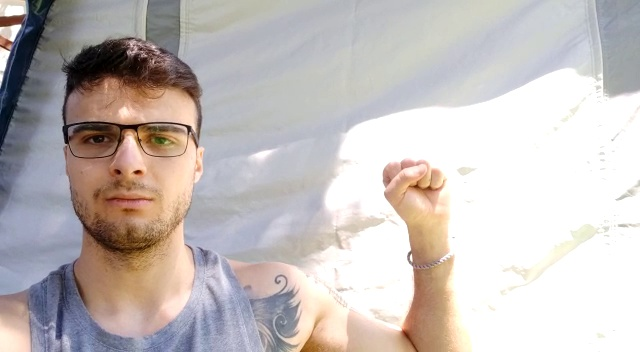Fist: (382, 156, 451, 223)
